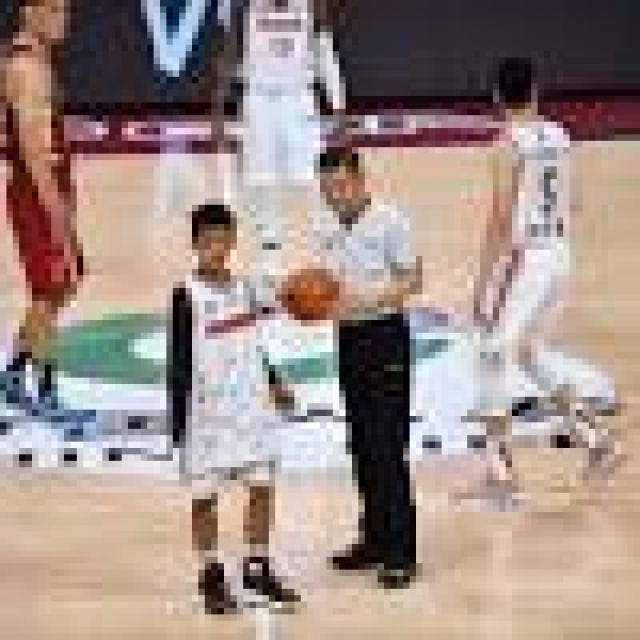rim: (282, 269, 332, 320)
